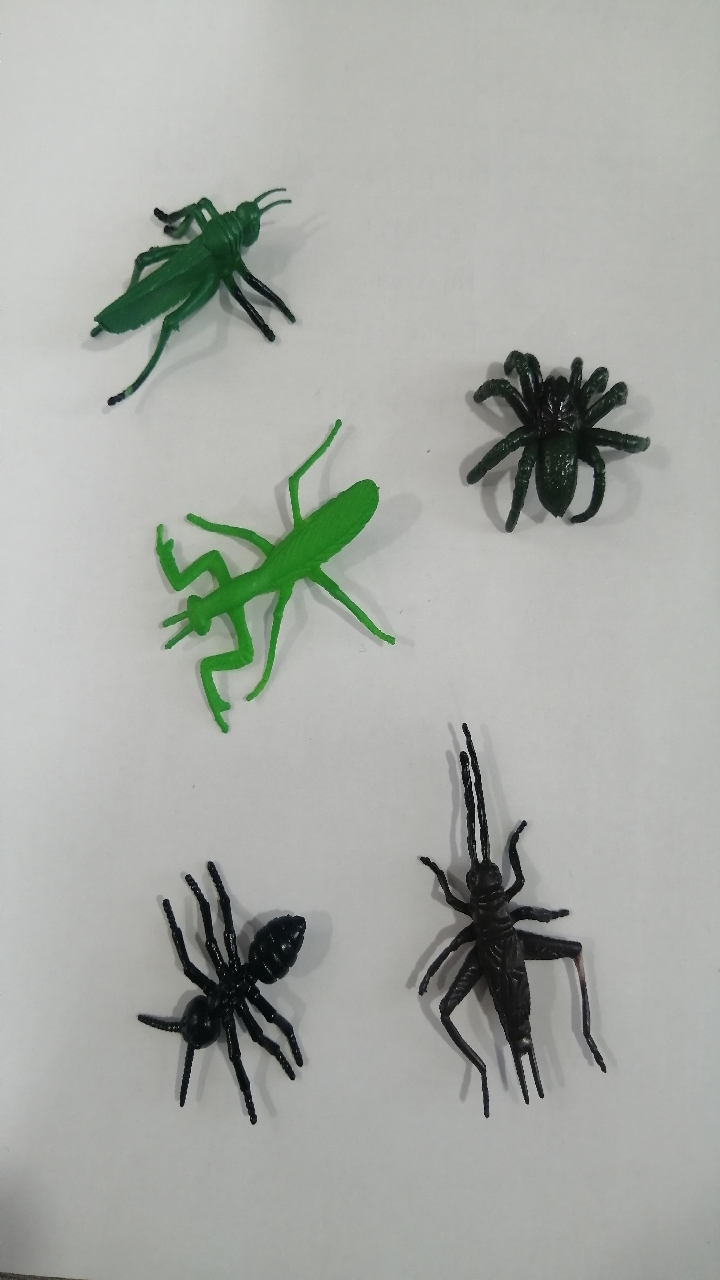intruso: (386, 688, 629, 1140), (100, 414, 421, 735), (43, 131, 309, 429), (111, 820, 344, 1151), (432, 314, 655, 571)
